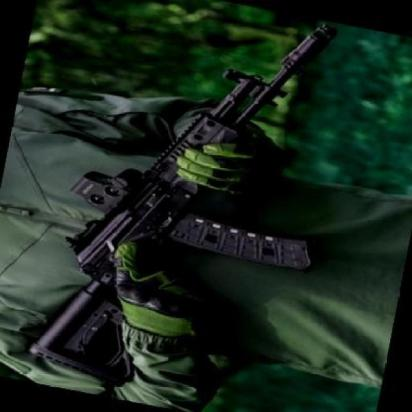Gun: (11, 0, 373, 412)
